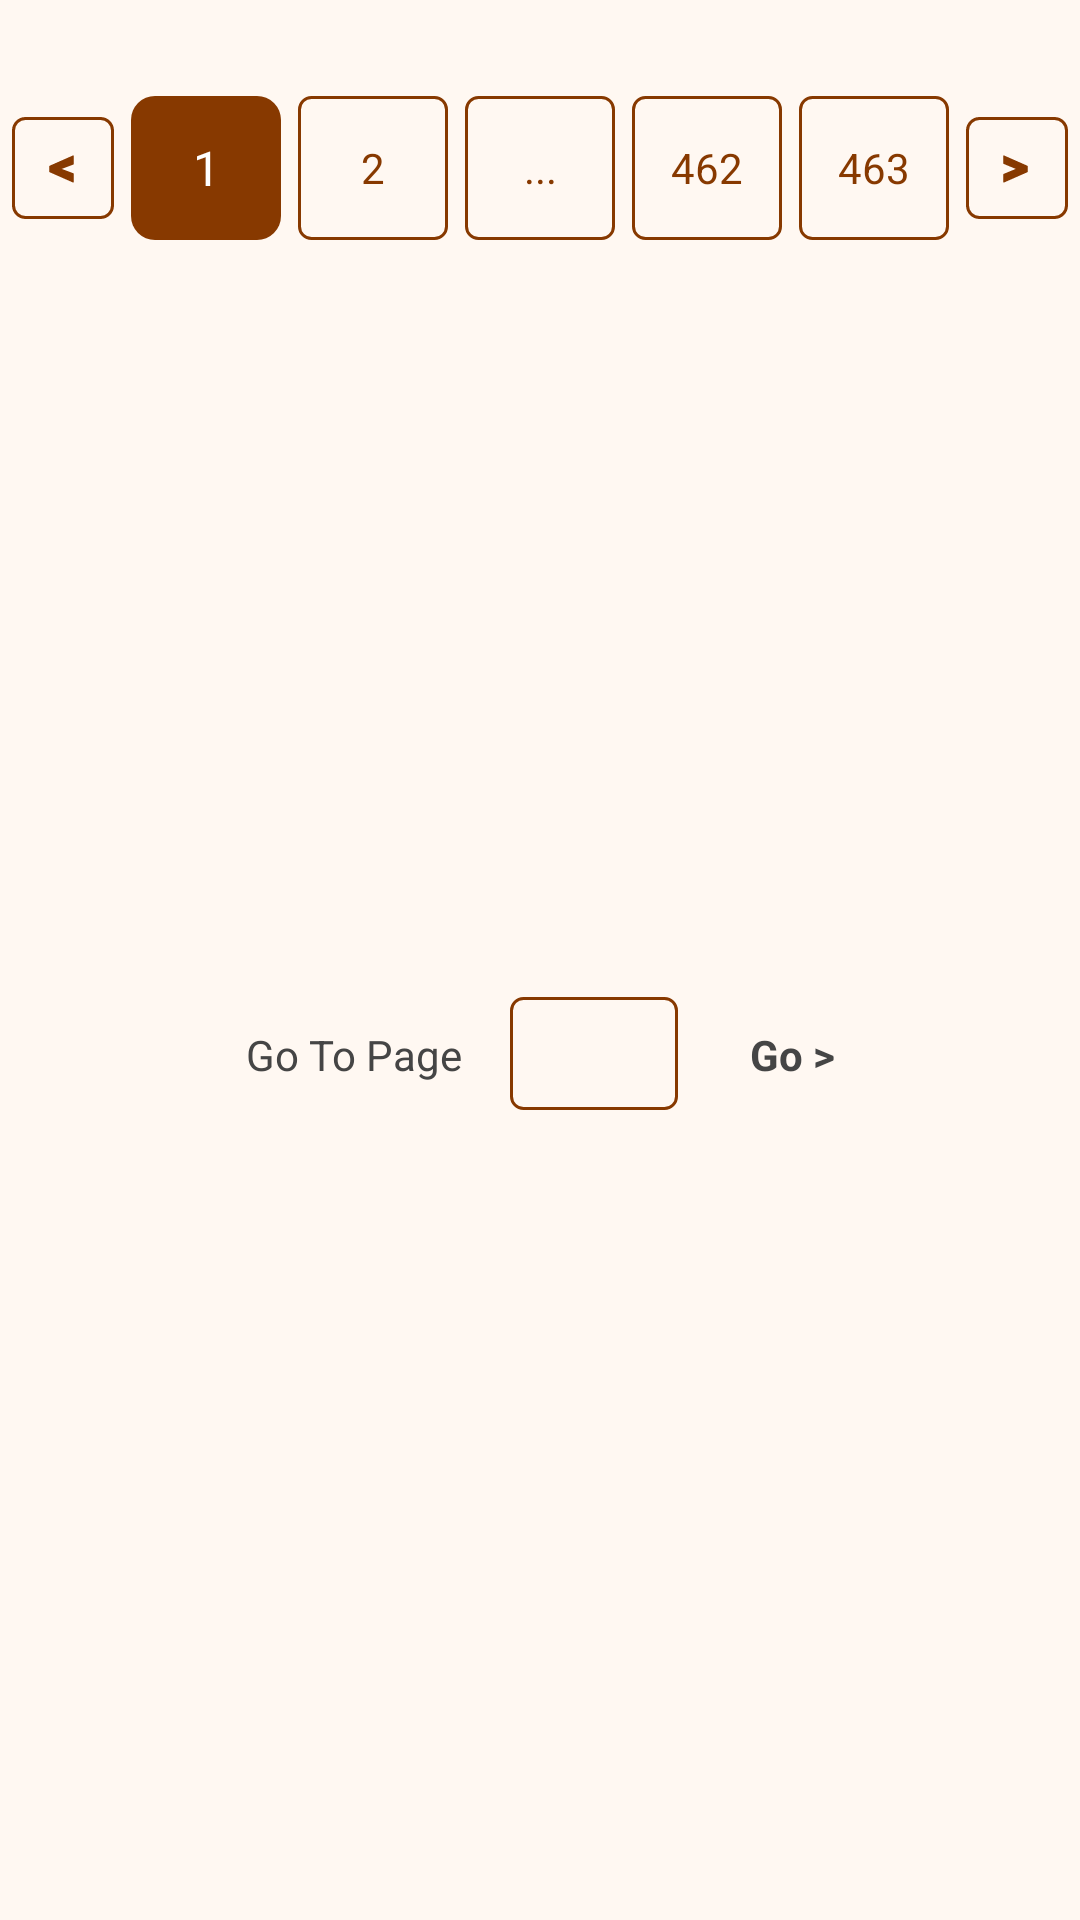

Where to tap for icons on this 1080px x 1920px app screen, as (x=x, y=y):
greater than arrow: (x=1017, y=168)
less than arrow: (x=63, y=168)
